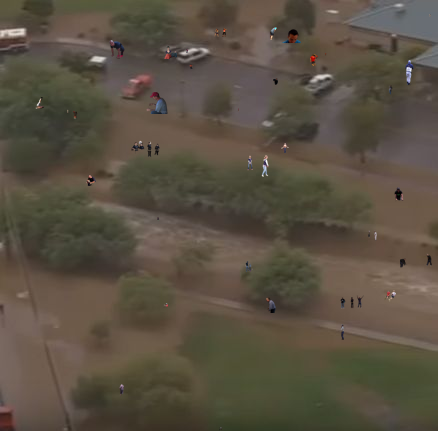Human: (131, 140, 161, 157), (146, 92, 169, 114), (270, 27, 301, 43), (247, 155, 269, 177), (400, 253, 432, 268), (339, 295, 364, 309), (109, 40, 125, 59), (310, 53, 333, 66), (405, 60, 414, 86), (377, 290, 396, 302), (160, 46, 177, 59), (67, 109, 87, 120), (266, 297, 276, 313), (363, 230, 377, 241), (394, 187, 404, 202), (380, 85, 394, 95), (338, 324, 346, 340), (214, 28, 227, 37), (86, 175, 96, 186), (35, 97, 44, 109), (245, 261, 253, 272), (281, 143, 289, 153), (119, 384, 124, 396), (273, 78, 278, 87), (163, 303, 168, 308), (189, 64, 193, 70), (219, 427, 222, 431), (186, 49, 188, 53), (157, 217, 159, 221), (230, 96, 233, 98), (429, 14, 431, 17), (238, 108, 239, 112)
